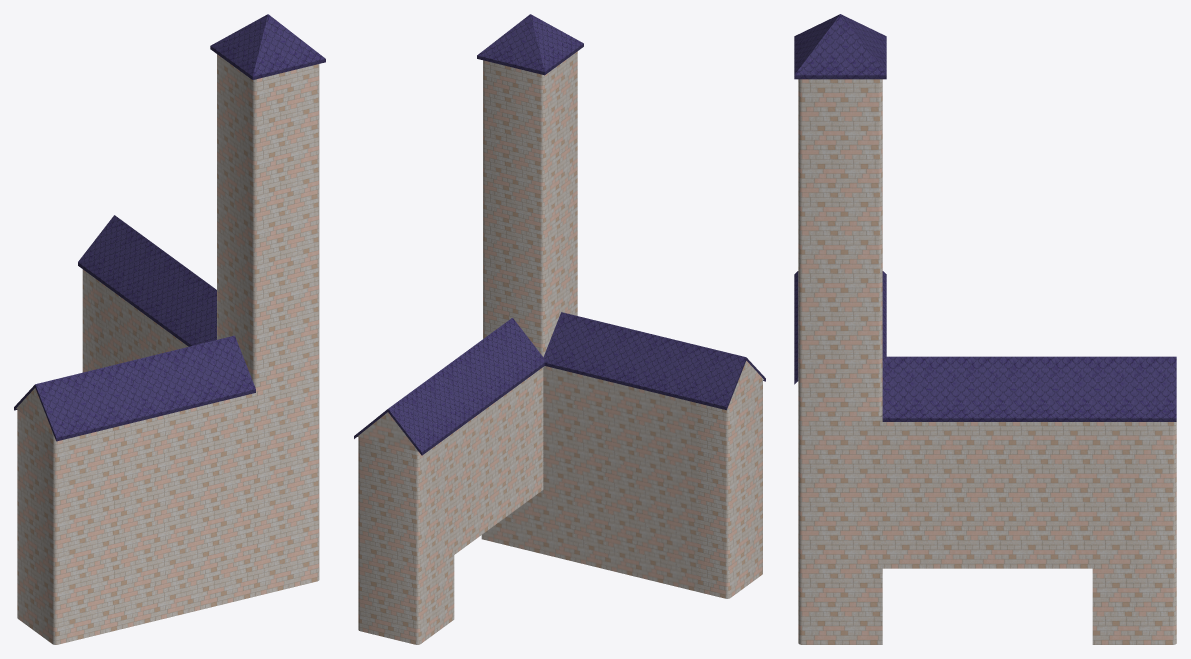
The model's file is Dormitory.fbx.
3 renders of one model, left to right at view 1: azimuth 30°, elevation 25°; view 2: azimuth 150°, elevation 25°; view 3: azimuth 270°, elevation 25°, orthographic. The views are drawn at different scales.
Parts seen in each view (by area): view 1: Dormitory; view 2: Dormitory; view 3: Dormitory.
Part boxes in pixels (x1,y1,x2,y2): Dormitory: (14, 14, 325, 644); Dormitory: (354, 14, 765, 644); Dormitory: (794, 14, 1176, 644).
Bounding box in the file's own units: 3240 × 6440 × 3640.
